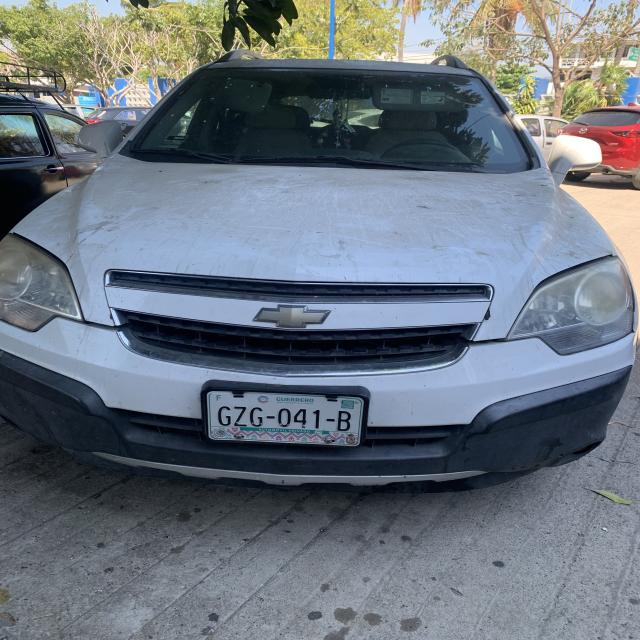placa: (211, 400, 366, 432)
